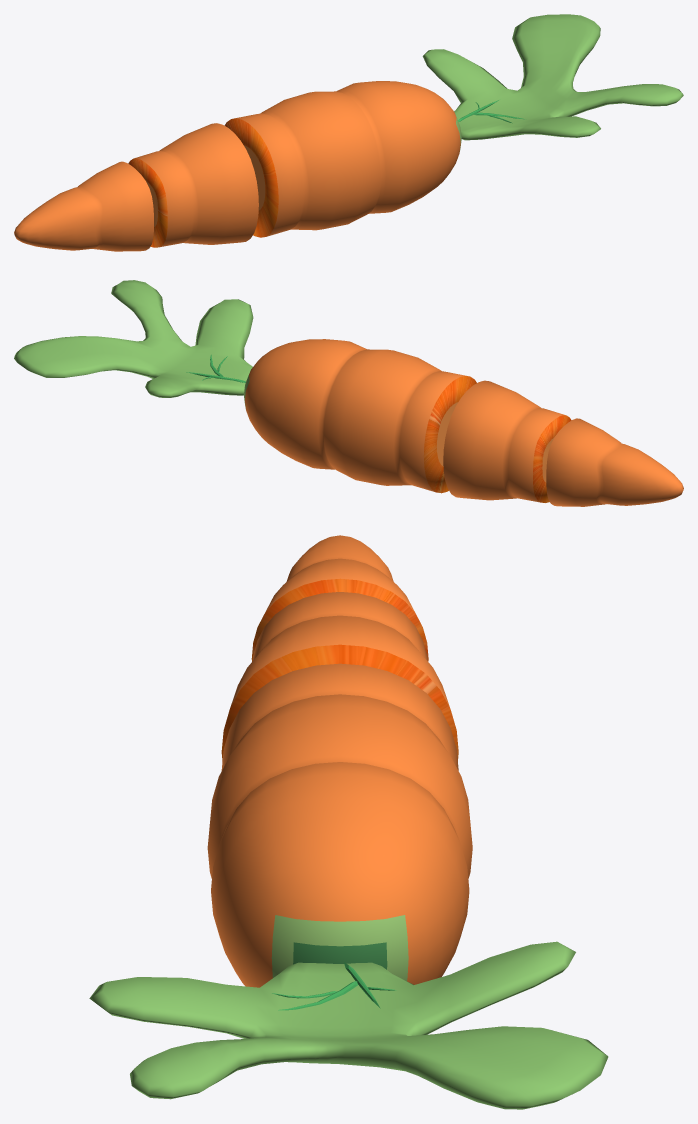
The model's file is potongan 2.fbx.
3 renders of one model, top to bottom at view 1: azimuth 30°, elevation 25°; view 2: azimuth 150°, elevation 25°; view 3: azimuth 270°, elevation 25°, orthographic. The views are drawn at different scales.
Visible parts, largest first — view 1: wortel .001, Plane.013, potongan 2, potongan.001; view 2: wortel .001, Plane.013, potongan 2, potongan.001; view 3: wortel .001, Plane.013, potongan 2, potongan.001.
Boxes of the visible parts, x1=… form: wortel .001: x1=224, y1=81, x2=461, y2=237; Plane.013: x1=422, y1=14, x2=683, y2=140; potongan 2: x1=128, y1=123, x2=258, y2=247; potongan.001: x1=14, y1=161, x2=153, y2=251; wortel .001: x1=243, y1=339, x2=476, y2=493; Plane.013: x1=14, y1=280, x2=253, y2=397; potongan 2: x1=443, y1=380, x2=571, y2=502; potongan.001: x1=546, y1=418, x2=683, y2=506; wortel .001: x1=207, y1=663, x2=472, y2=987; Plane.013: x1=89, y1=941, x2=608, y2=1109; potongan 2: x1=221, y1=592, x2=458, y2=761; potongan.001: x1=251, y1=535, x2=428, y2=661.
Bounding box in the file's own units: 743 × 138 × 270.
8 materials, 1 textured.
